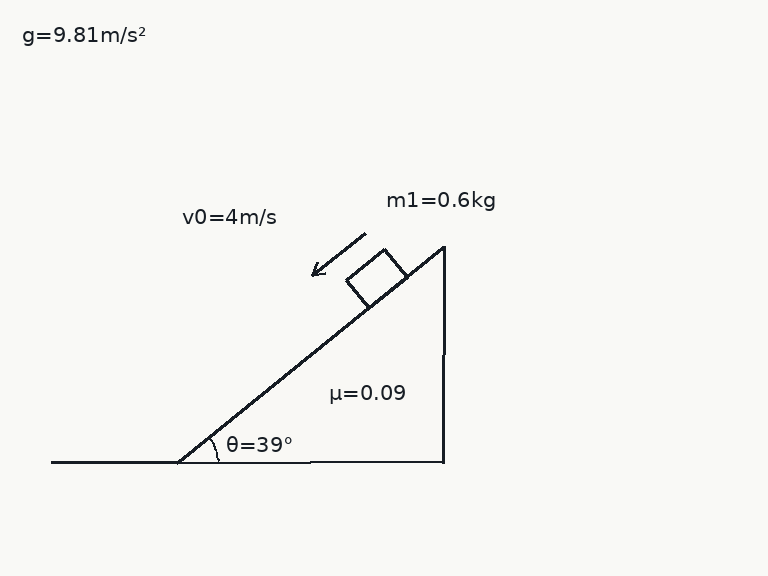block: (344, 247, 408, 310)
ramp: (176, 245, 445, 464)
